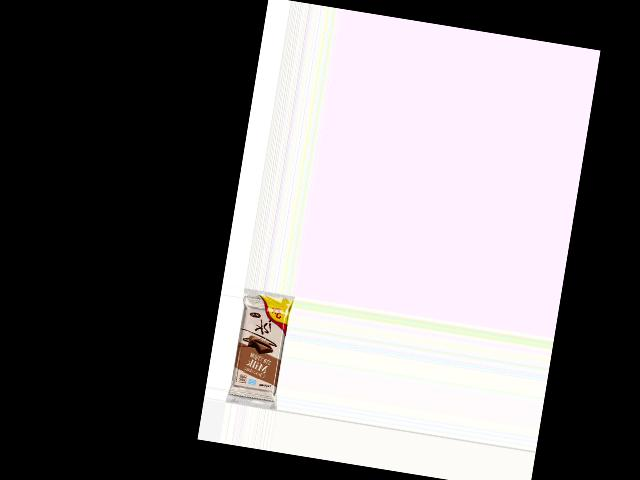chocolate: (226, 287, 294, 400)
